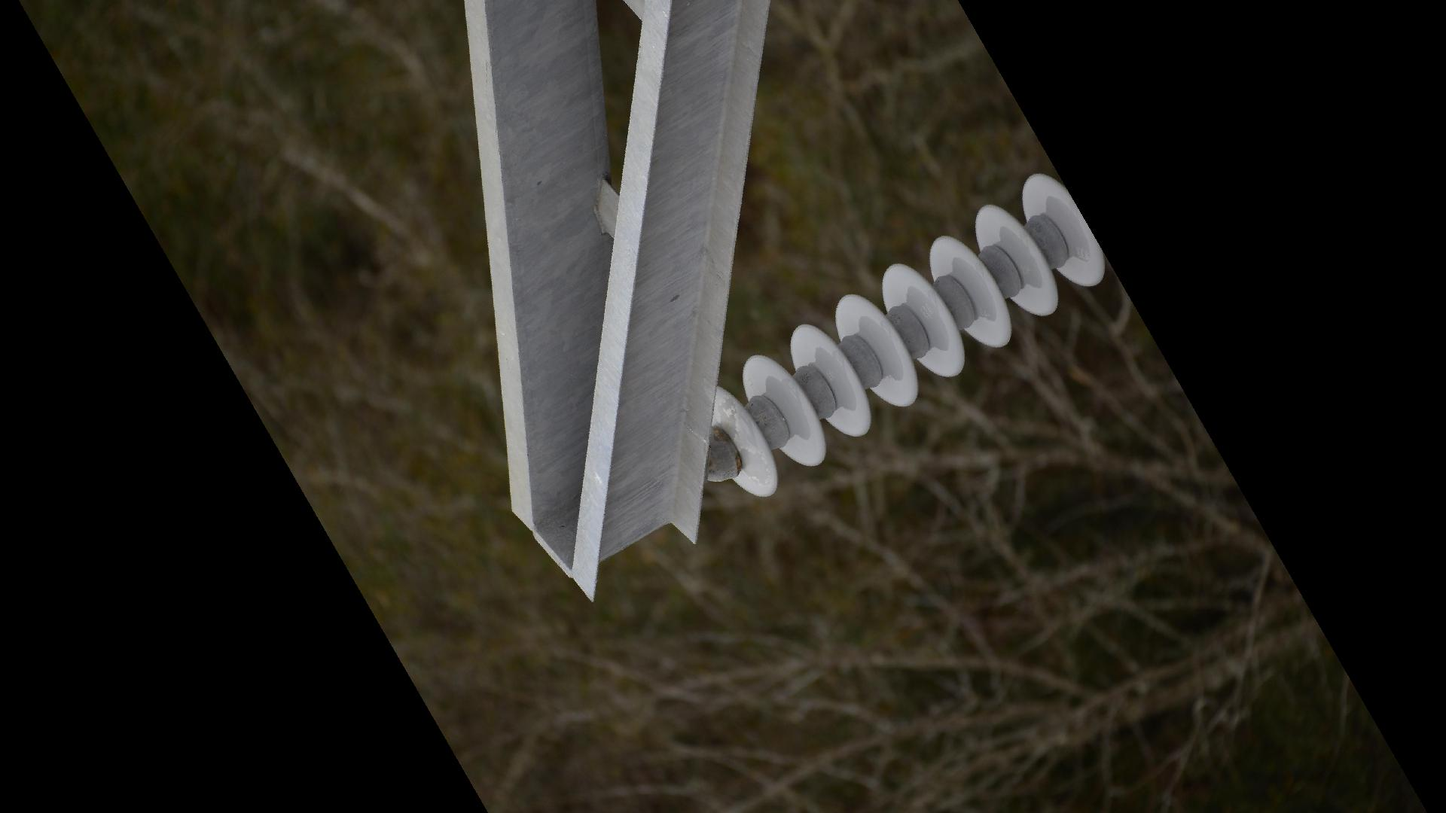insulator: (706, 168, 1114, 504)
insulator_flashover: (738, 445, 773, 486), (715, 395, 740, 441)
